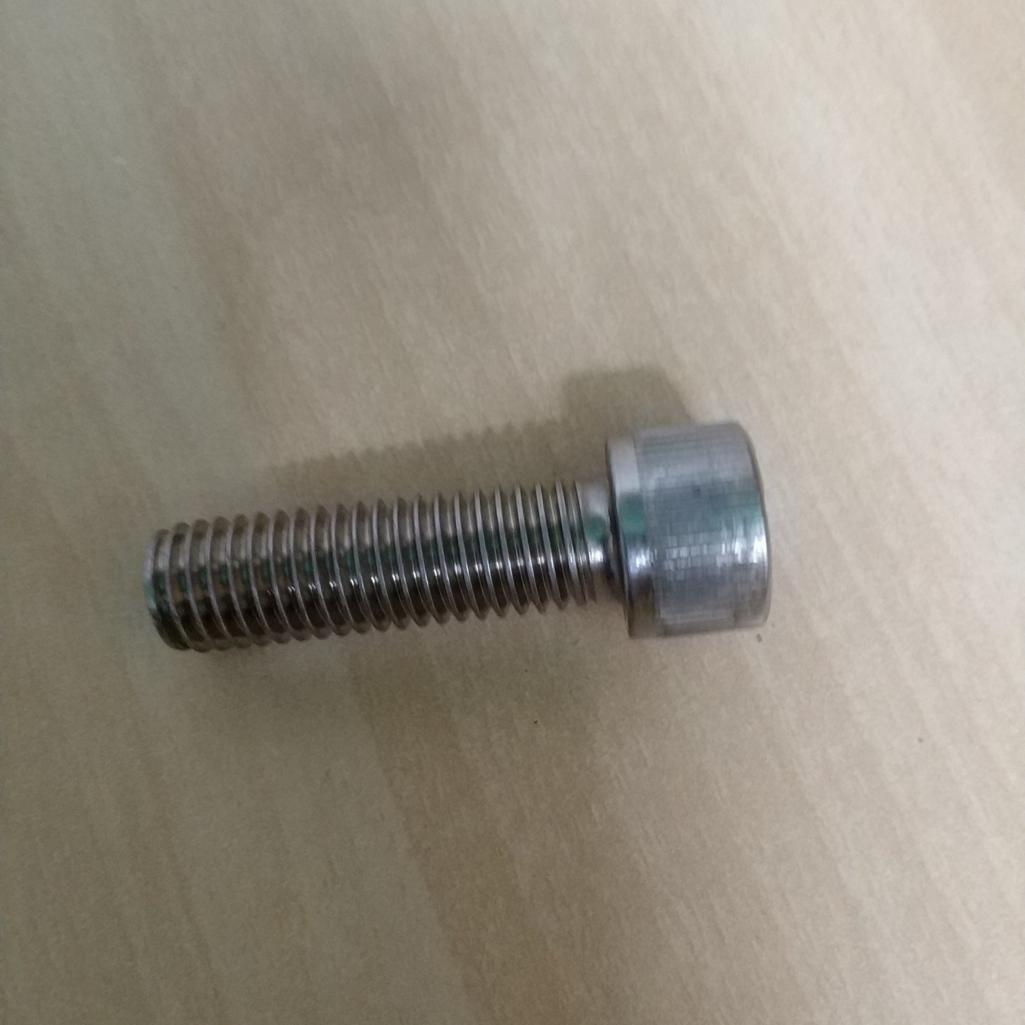screwtype1silver: (121, 417, 795, 662)
